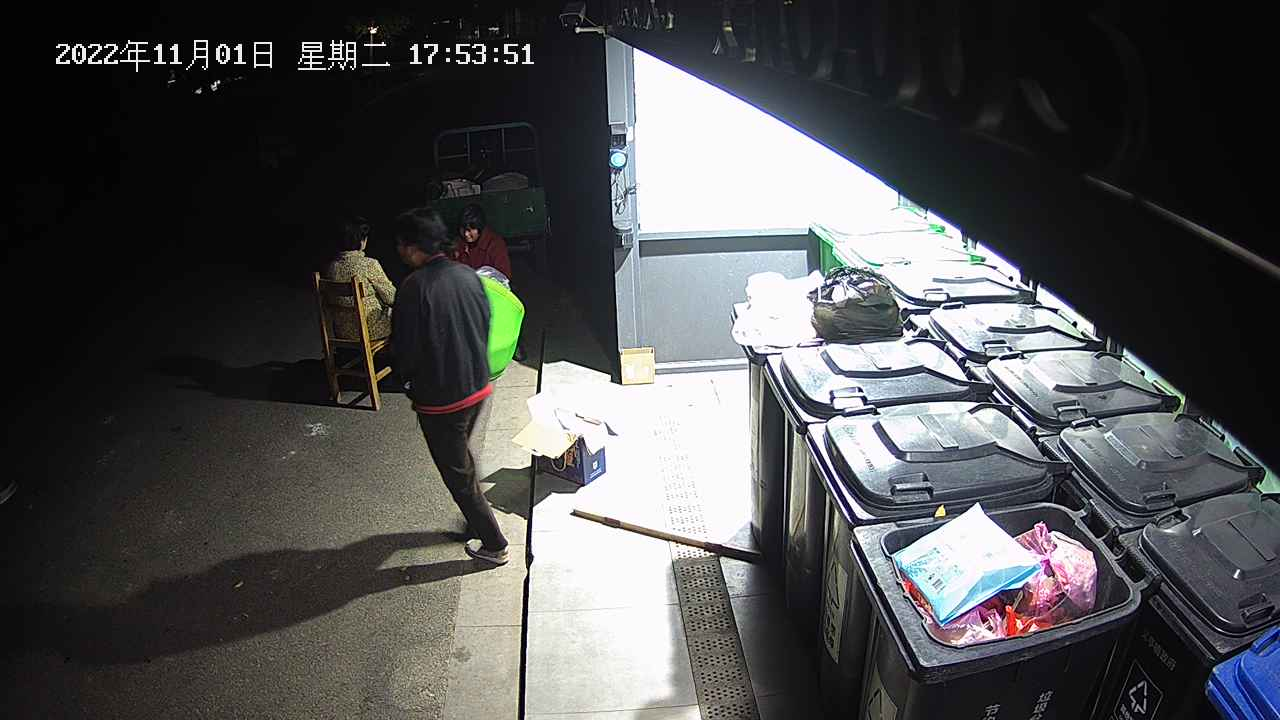person: (386, 202, 510, 565), (324, 215, 397, 340)
zhizhipin: (509, 388, 620, 485), (618, 343, 657, 388)
